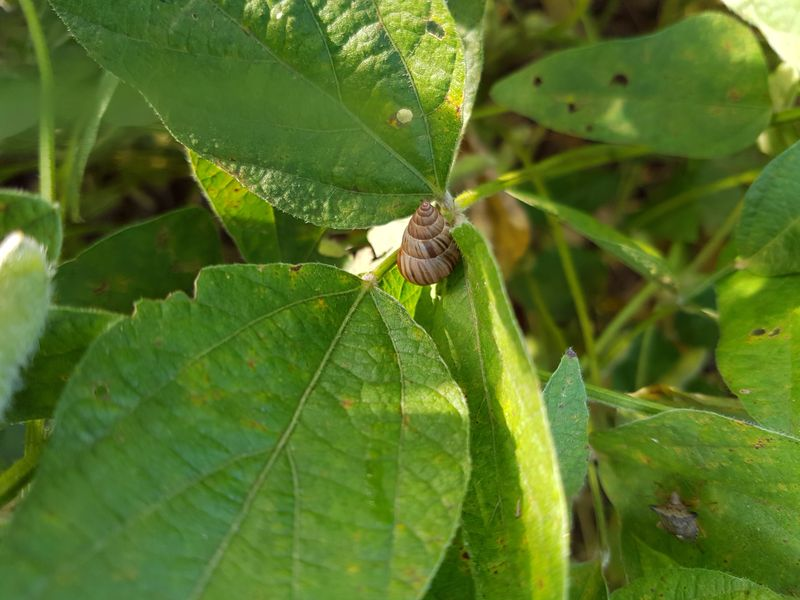Euschistus_heros_adulto: (639, 482, 716, 562)
Gastropoda: (382, 193, 483, 304)
